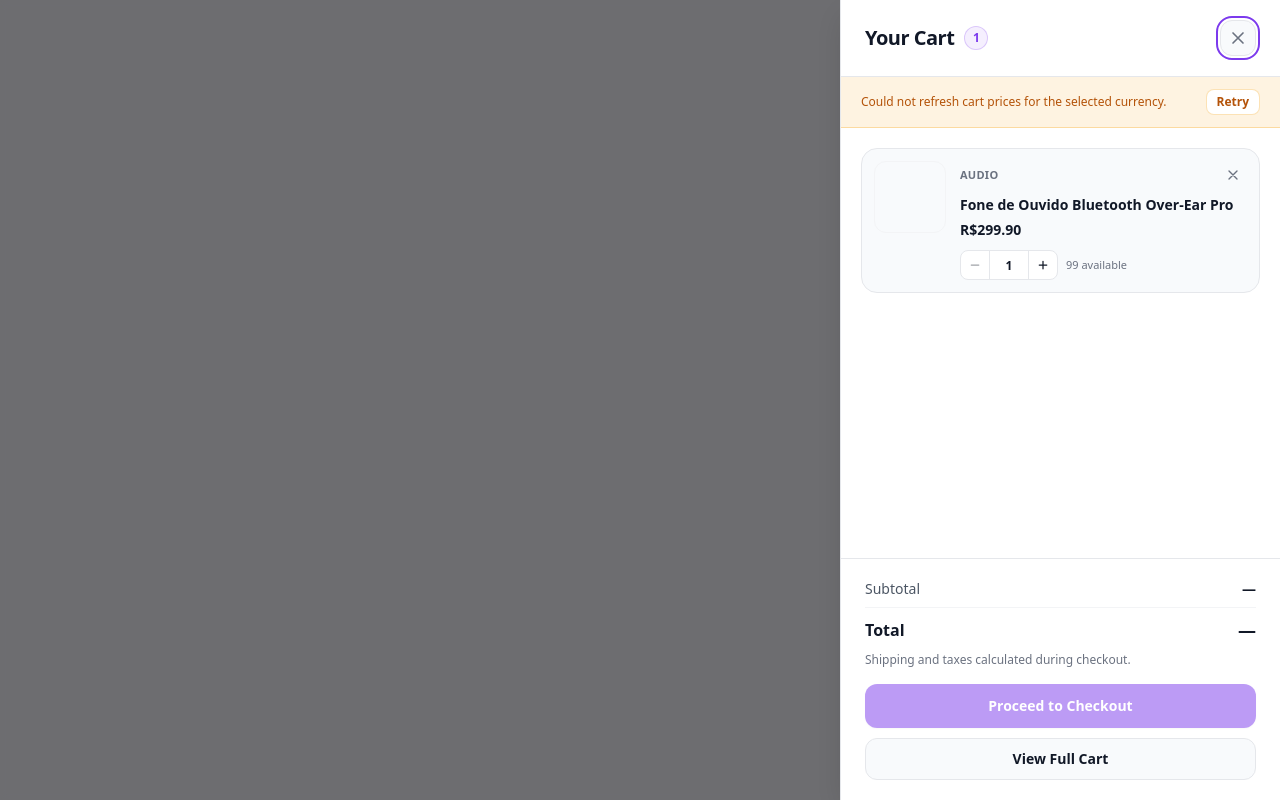
Test case: MiniCart progressive multi-currency repricing (Phase 6.1) › shows inline error + Retry button immediately without automatic retries when quotePricing fails under production QueryClient
Expected: the text "Could not refresh cart prices for the selected currency." is shown, [861, 94, 1167, 110]
Expected: the link "Fone de Ouvido Bluetooth Over-Ear Pro" is shown, [960, 195, 1247, 214]
Note: Clicking Retry recovers and updates item to EUR
Click the button "Retry" at (1233, 102), box [1206, 89, 1260, 115]
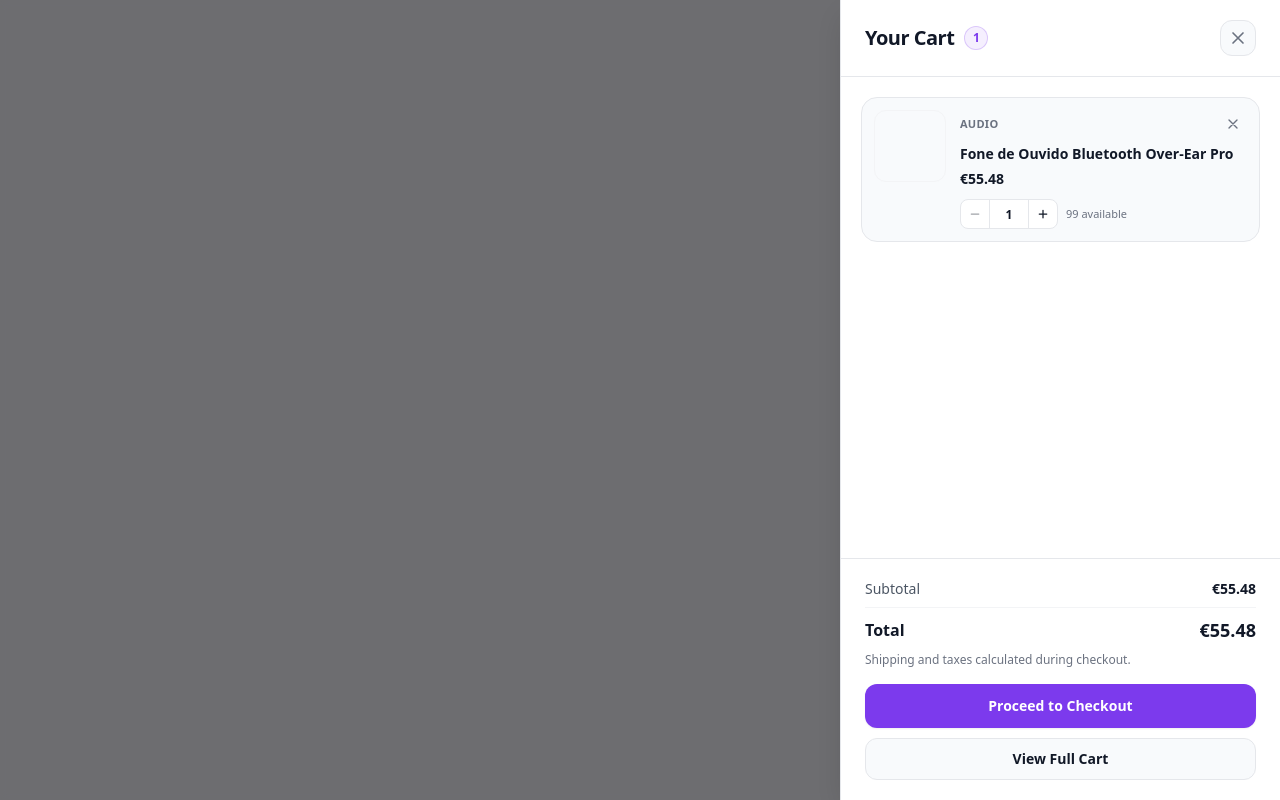
Expected: the button "Proceed to Checkout" is enabled, [865, 684, 1256, 728]
